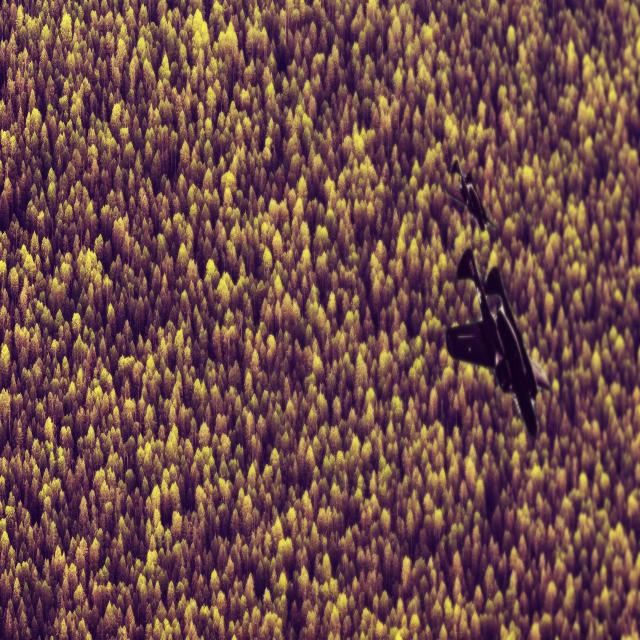airplane: (444, 246, 550, 438), (445, 156, 496, 234)
